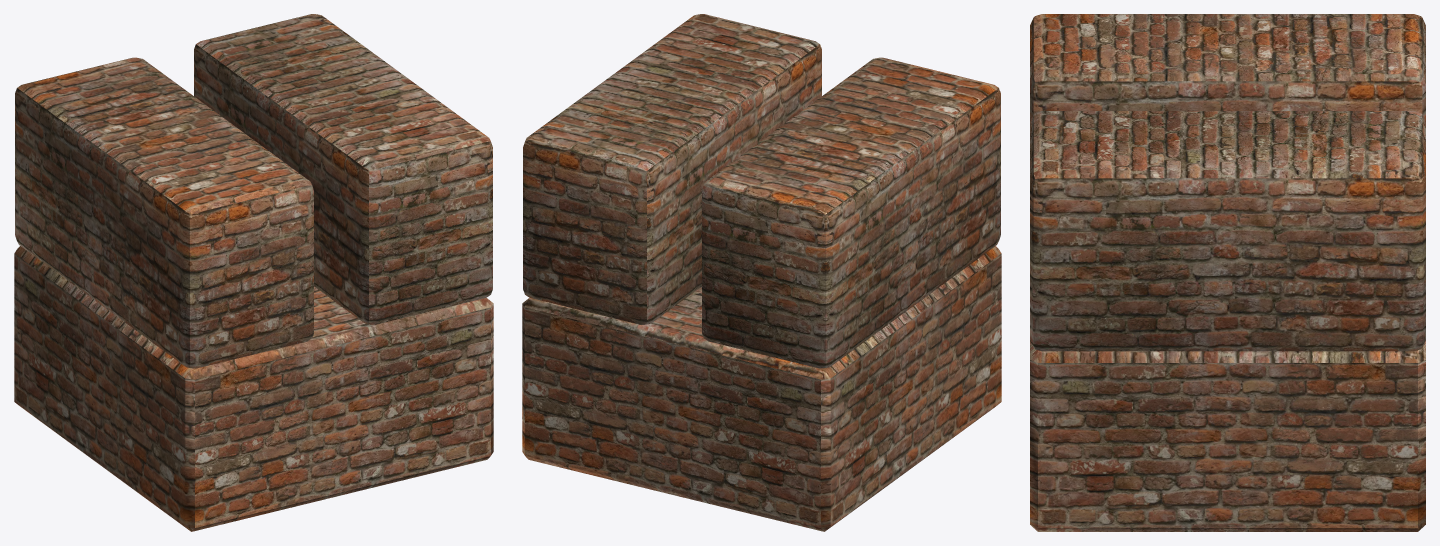
Rendered from castle_crenel.glb.
The picture shows the model from 3 angles, left to right: view 1: azimuth 30°, elevation 25°; view 2: azimuth 150°, elevation 25°; view 3: azimuth 270°, elevation 25°; orthographic projection. The views are drawn at different scales.
Visible parts, largest first — view 1: cb.001, cm, cm.001; view 2: cb.001, cm, cm.001; view 3: cm.001, cb.001, cm.
Boxes of the visible parts, x1,y1,x2,y2 form: cb.001: (14,246,493,531); cm: (15,57,313,368); cm.001: (194,14,492,324); cb.001: (522,246,1001,531); cm: (702,57,1000,368); cm.001: (523,14,821,324); cm.001: (1030,111,1425,351); cb.001: (1030,340,1425,531); cm: (1030,14,1425,121).
Size of the model in its own units: 1 by 1 by 1.
Materials: 1 (1 with a texture image).
